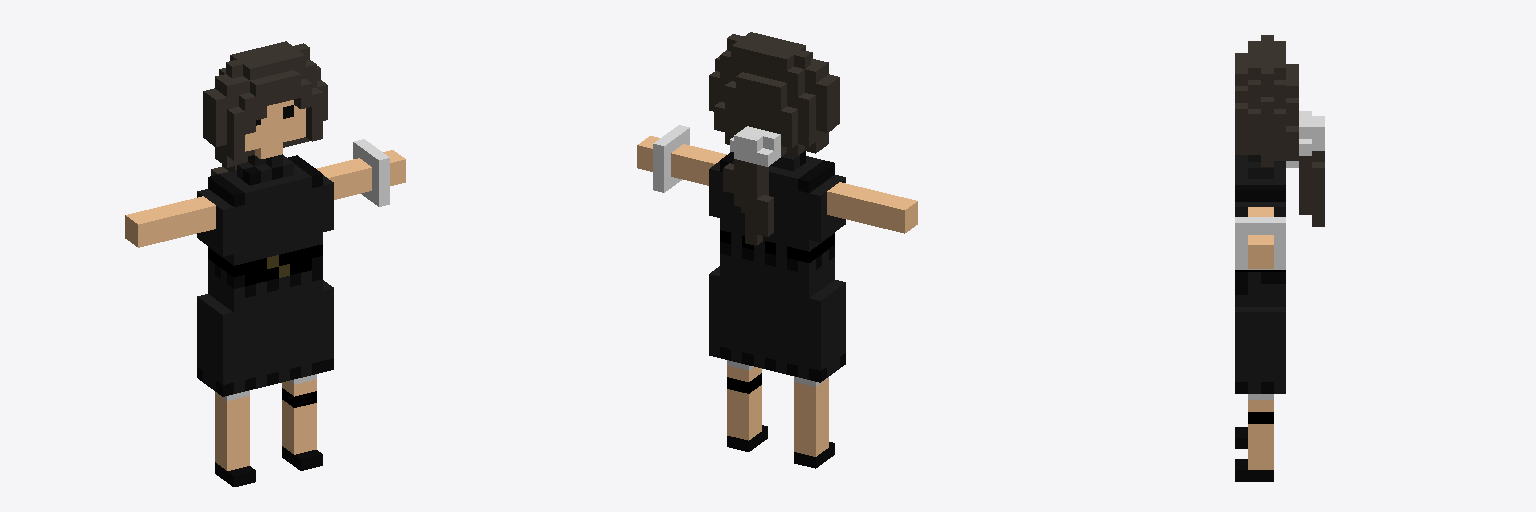
The picture shows the model from 3 angles: view 1: azimuth 30°, elevation 25°; view 2: azimuth 150°, elevation 25°; view 3: azimuth 270°, elevation 25°; orthographic projection.
Parts seen in each view (by area): view 1: object 1; view 2: object 1; view 3: object 1.
Boxes of the visible parts, x1,y1,x2,y2 form: object 1: [125, 41, 405, 486]; object 1: [637, 32, 917, 468]; object 1: [1235, 35, 1324, 481].
Size of the model in its own units: 2.4 by 3.5 by 0.7.
Materials: 1 (1 with a texture image).